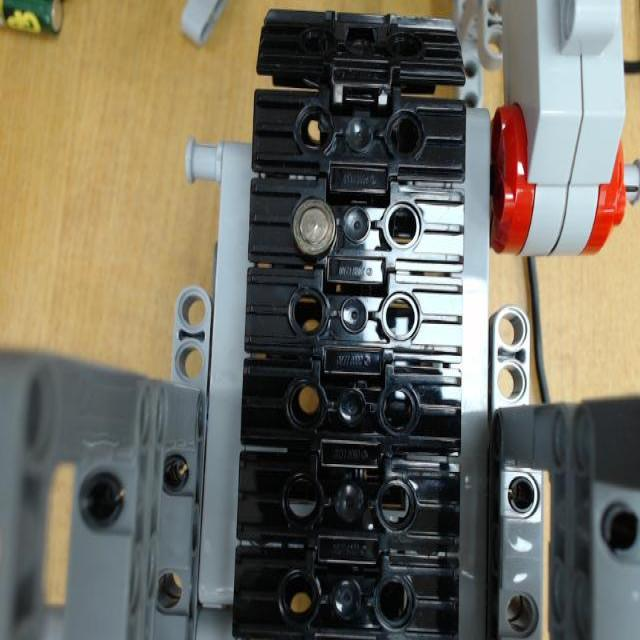COIN: (290, 193, 338, 259)
